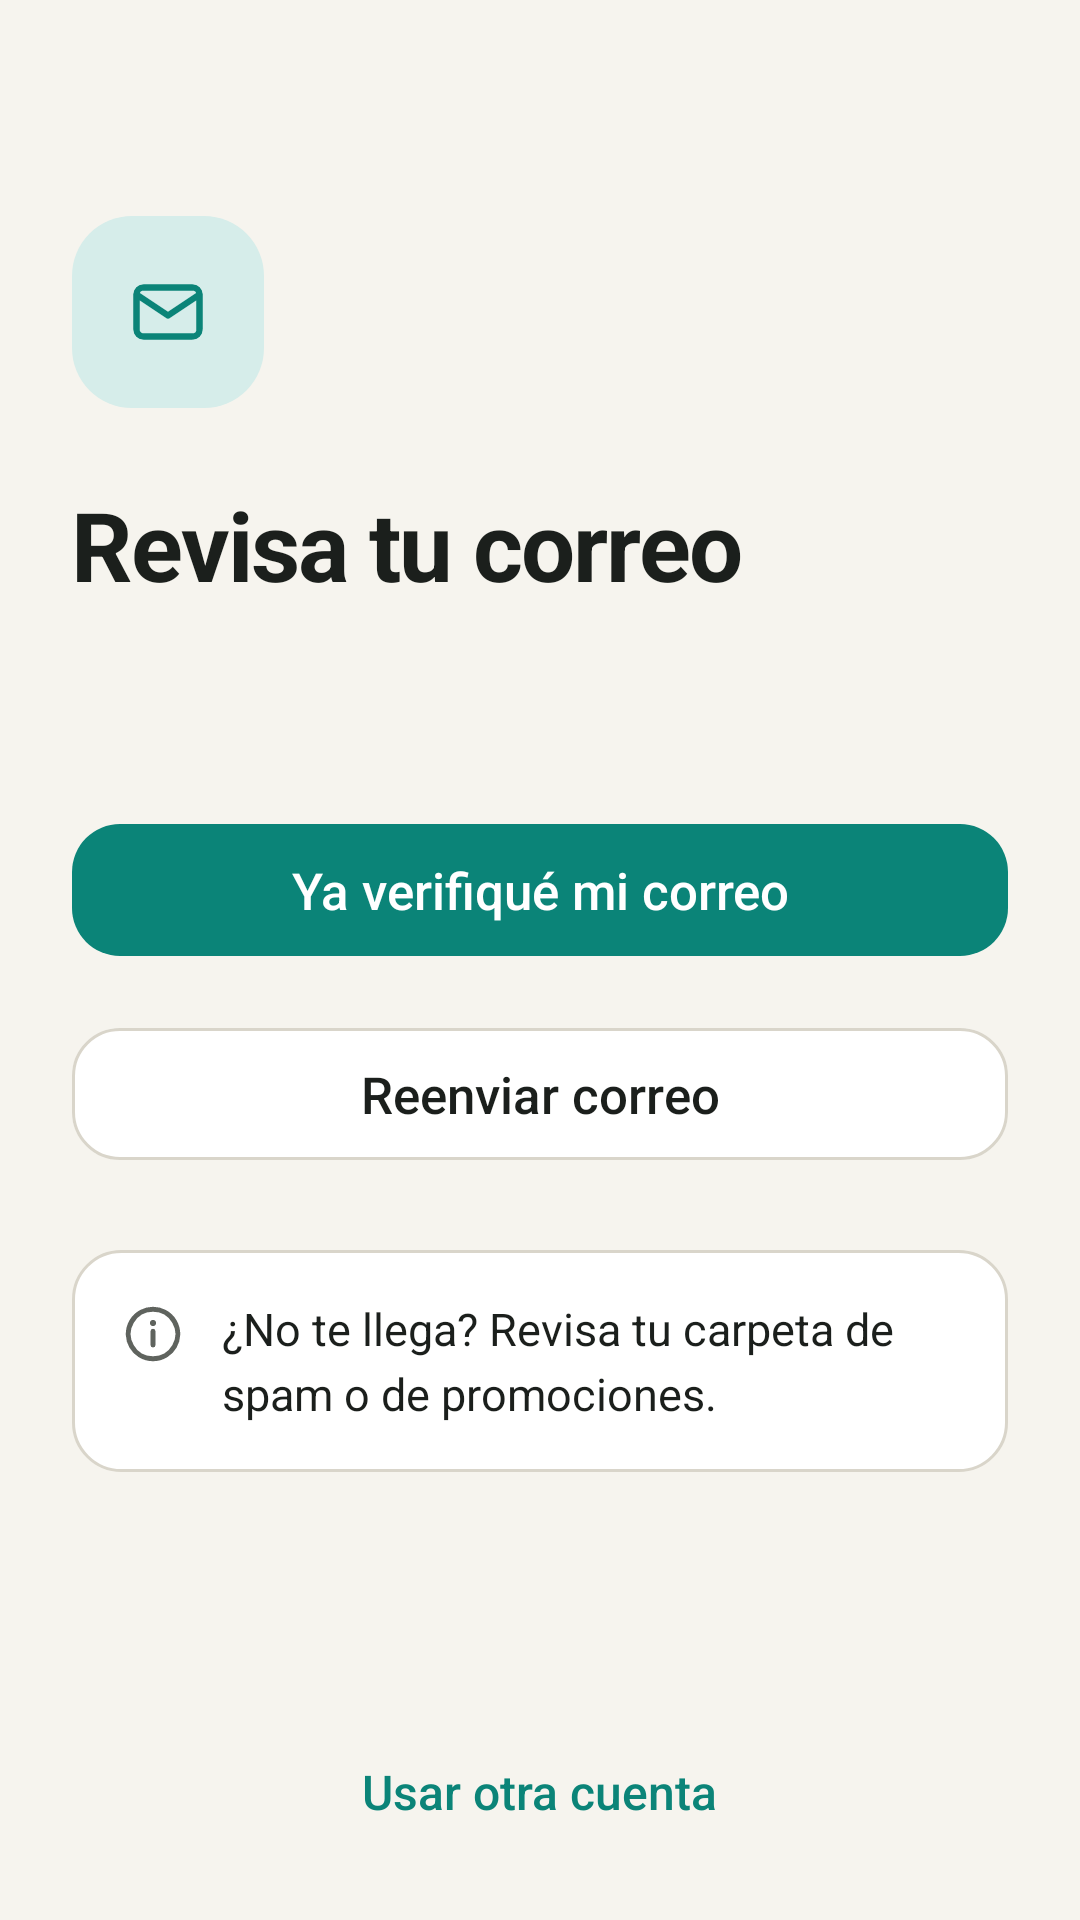

Point at icon controls on the screen. Image size 1080×1920, points as [x,y].
info: [153,1334]
